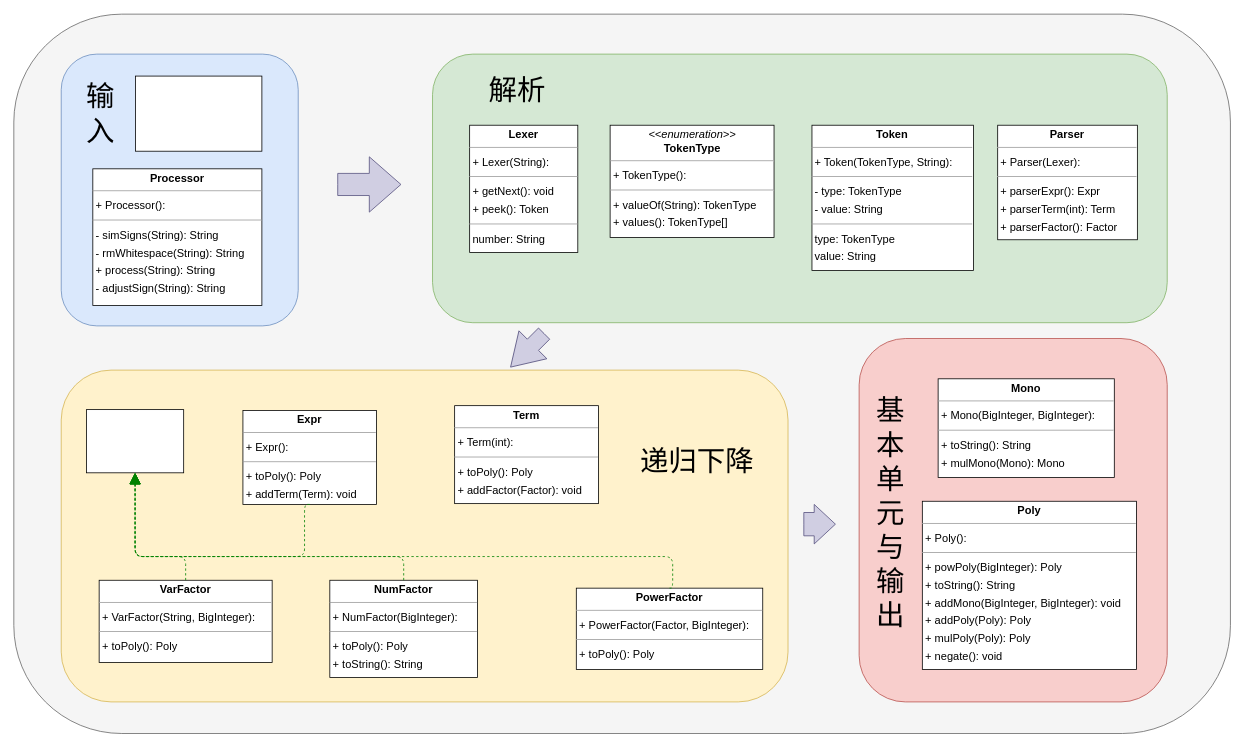
The diagram is 1244 pixels wide and 747 high, and some of its shapes have lost their labels. Each missing label, with the centre of its shape:
<<interface>> Factor + toPoly(): Poly: point 135,441
MainClass + MainClass(): + main(String[]): void: point 198,113
